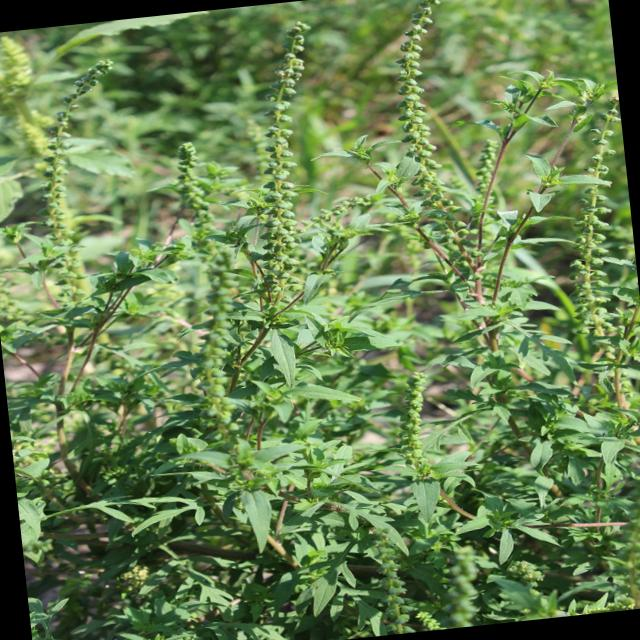ambrosia: (122, 14, 392, 474), (372, 0, 640, 453)
